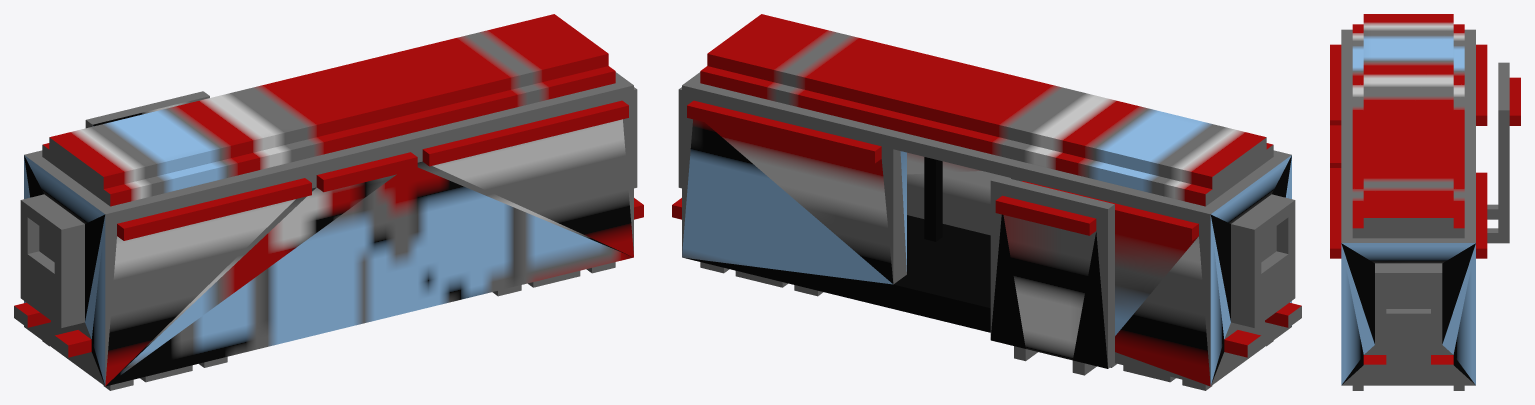
The model's file is veh_train.dae.
3 renders of one model, left to right at view 1: azimuth 30°, elevation 25°; view 2: azimuth 150°, elevation 25°; view 3: azimuth 270°, elevation 25°, orthographic. The views are drawn at different scales.
Visible parts, largest first — view 1: veh_train; view 2: veh_train; view 3: veh_train.
Boxes of the visible parts, box(x1,y1,x2,y2) form: veh_train: box(14, 14, 643, 390); veh_train: box(672, 14, 1301, 390); veh_train: box(1330, 14, 1520, 390).
Bounding box in the file's own units: 4.9 × 1.7 × 1.7.
